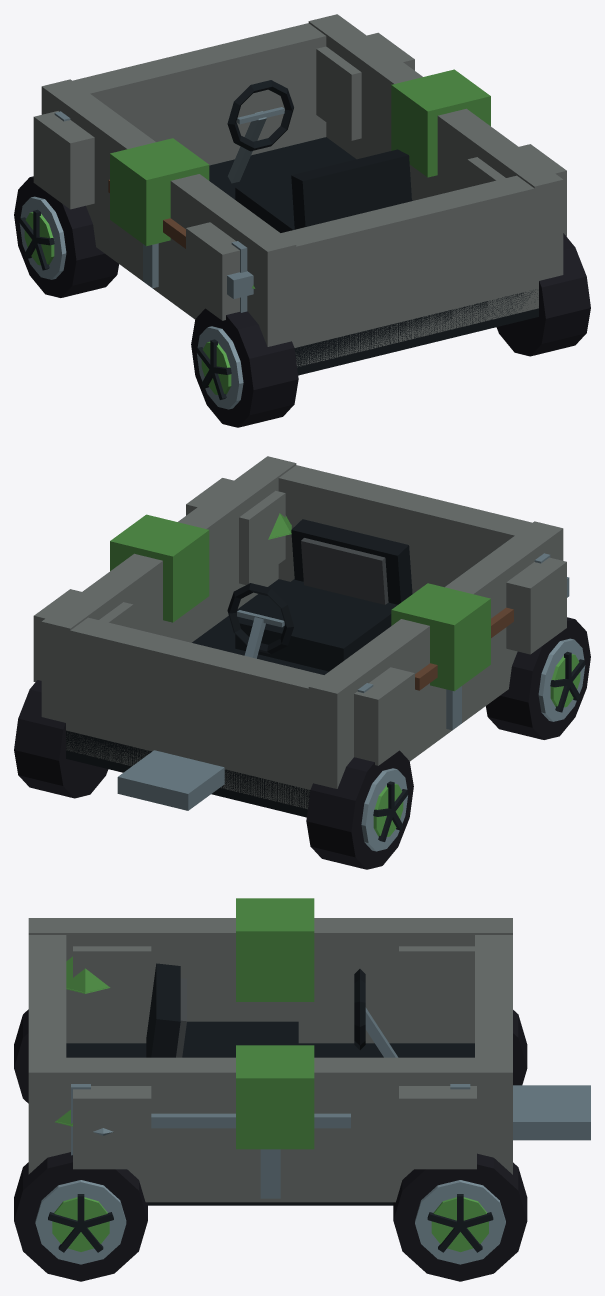
The model's file is kart.glb.
3 renders of one model, top to bottom at view 1: azimuth 30°, elevation 25°; view 2: azimuth 150°, elevation 25°; view 3: azimuth 270°, elevation 25°, orthographic. The views are drawn at different scales.
Parts seen in each view (by area): view 1: identity-minecart-minecart-riveted-open-bin, identity-minecart-motif-blocks, identity-minecart-driver-cockpit, wheel-rear-left, wheel-front-left, wheel-rear-right, identity-minecart-motif-tools; view 2: identity-minecart-minecart-riveted-open-bin, identity-minecart-motif-blocks, identity-minecart-driver-cockpit, wheel-front-left, wheel-rear-left, wheel-front-right, identity-minecart-motif-tools; view 3: identity-minecart-minecart-riveted-open-bin, identity-minecart-motif-blocks, wheel-rear-right, wheel-front-right, identity-minecart-driver-cockpit, identity-minecart-motif-tools, wheel-rear-left, identity-minecart-motif-gems, wheel-front-left.
Boxes of the visible parts, <box> form: identity-minecart-minecart-riveted-open-bin: <box>41,14,563,375</box>; identity-minecart-motif-blocks: <box>33,32,566,320</box>; identity-minecart-driver-cockpit: <box>227,80,411,232</box>; wheel-rear-left: <box>191,308,298,427</box>; wheel-front-left: <box>14,176,118,297</box>; wheel-rear-right: <box>496,233,590,356</box>; identity-minecart-motif-tools: <box>108,179,253,298</box>; identity-minecart-minecart-riveted-open-bin: <box>41,456,563,817</box>; identity-minecart-motif-blocks: <box>33,478,566,765</box>; identity-minecart-driver-cockpit: <box>227,519,412,671</box>; wheel-front-left: <box>306,750,413,869</box>; wheel-rear-left: <box>486,617,590,739</box>; wheel-front-right: <box>14,680,108,798</box>; identity-minecart-motif-tools: <box>415,577,569,690</box>; identity-minecart-minecart-riveted-open-bin: <box>28,918,590,1205</box>; identity-minecart-motif-blocks: <box>73,898,476,1169</box>; wheel-rear-right: <box>14,1152,147,1281</box>; wheel-front-right: <box>393,1153,527,1281</box>; identity-minecart-driver-cockpit: <box>146,963,398,1057</box>; identity-minecart-motif-tools: <box>93,1113,350,1135</box>; wheel-rear-left: <box>14,1009,28,1103</box>; identity-minecart-motif-gems: <box>55,956,110,1126</box>; wheel-front-left: <box>513,1010,527,1085</box>.
Size of the model in its own units: 1.99 by 1.09 by 2.58.
